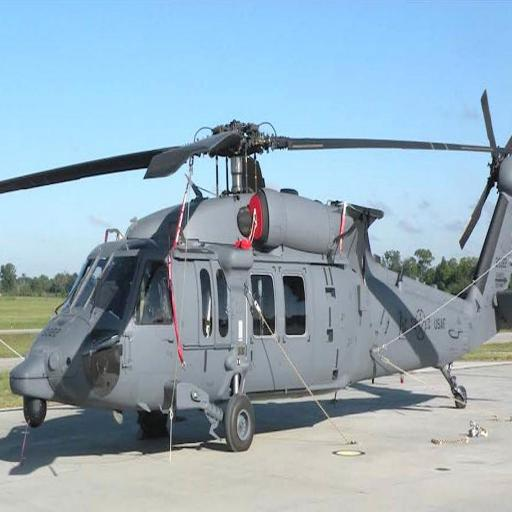helicopter: (9, 80, 507, 463)
